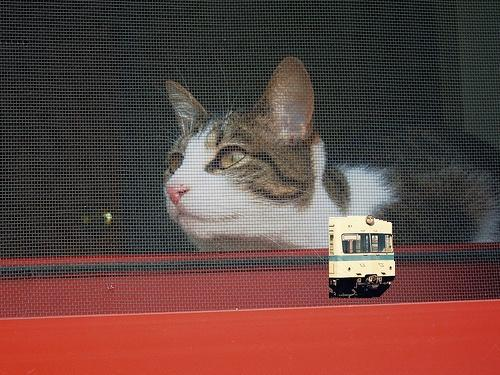tampered: (330, 215, 395, 298)
